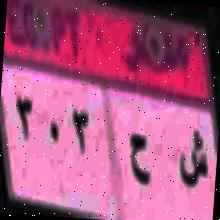0: (40, 112, 66, 153)
3: (67, 101, 95, 156), (9, 93, 37, 144)
7aa: (123, 124, 156, 192)
sheen: (174, 123, 214, 202)
